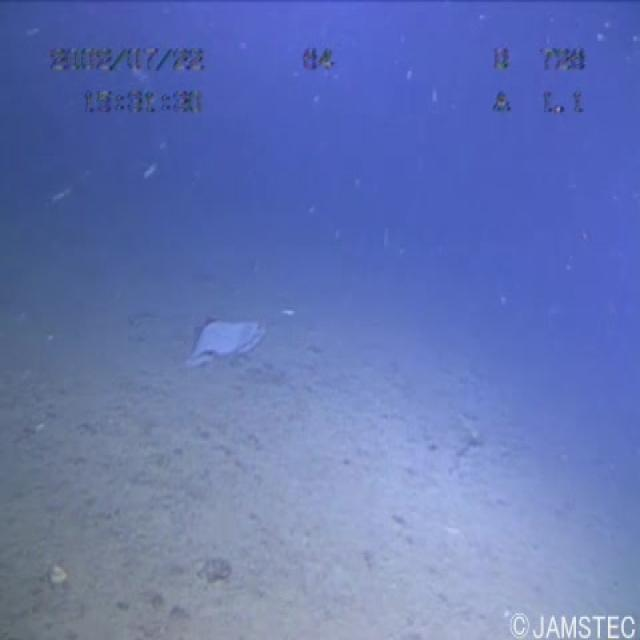plastic: (170, 301, 290, 374)
